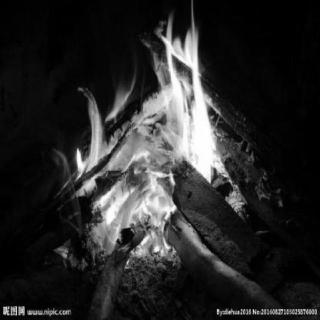Fire: (48, 1, 250, 273)
